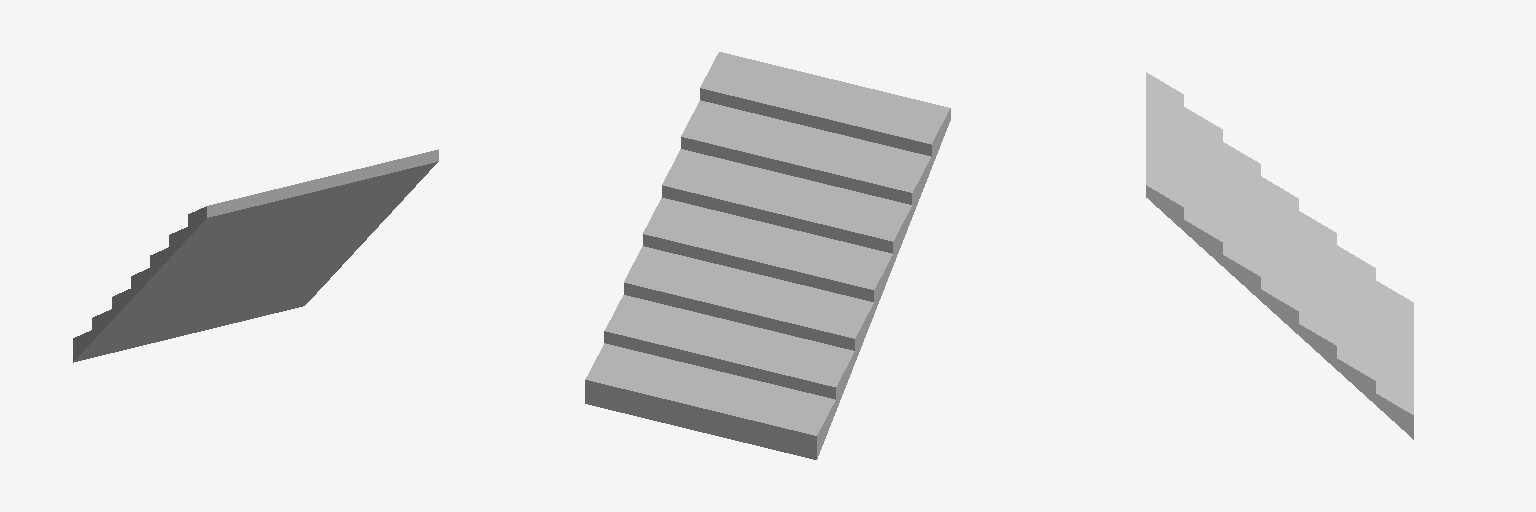
Rendered from Tetto.obj.
The picture shows the model from 3 angles: view 1: azimuth 30°, elevation 25°; view 2: azimuth 150°, elevation 25°; view 3: azimuth 270°, elevation 25°; orthographic projection.
Parts seen in each view (by area): view 1: Tetto; view 2: Tetto; view 3: Tetto.
Part boxes in pixels (x1,y1,x2,y2): Tetto: (73, 149, 438, 362); Tetto: (585, 52, 950, 459); Tetto: (1146, 72, 1413, 439).
Size of the model in its own units: 2 by 2.1 by 2.